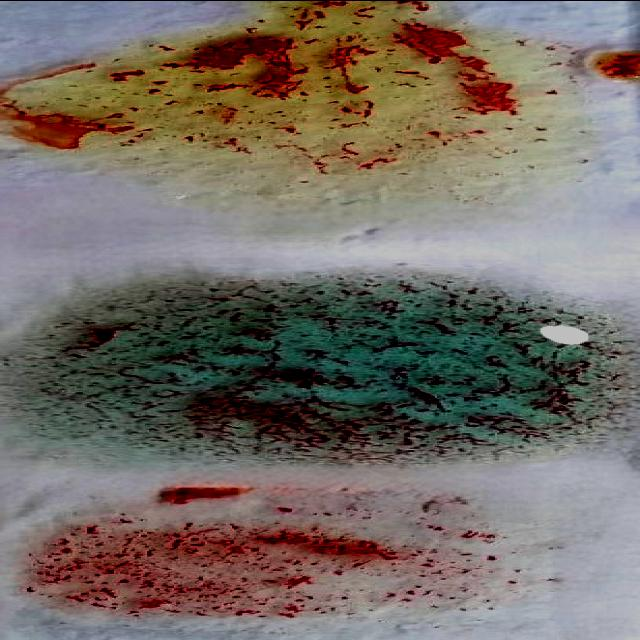A: (24, 290, 616, 464)
B: (9, 18, 579, 166)
D: (36, 500, 530, 616)
